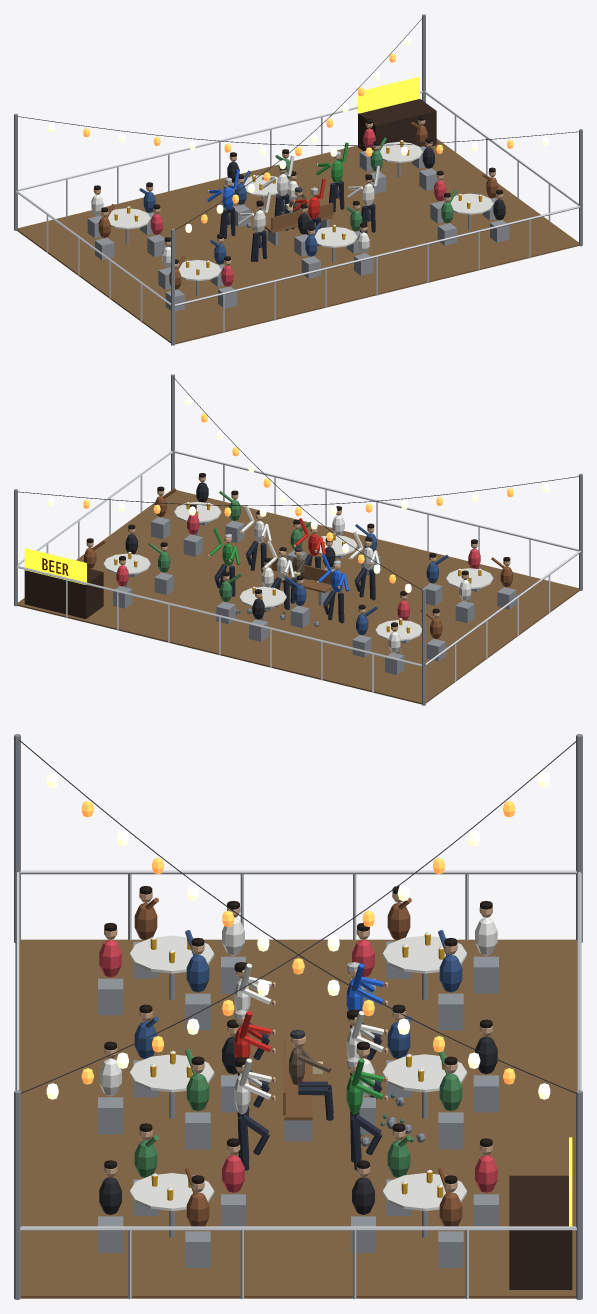
The model's file is city14.glb.
3 renders of one model, top to bottom at view 1: azimuth 30°, elevation 25°; view 2: azimuth 150°, elevation 25°; view 3: azimuth 270°, elevation 25°, orthographic. The views are drawn at different scales.
Visible parts, largest first — view 1: C14_BeerGarden, C14_TaichiA, C14_TaichiB, C14_PigeonFeeder; view 2: C14_BeerGarden, C14_TaichiA, C14_TaichiB, C14_PigeonFeeder; view 3: C14_BeerGarden, C14_TaichiA, C14_PigeonFeeder, C14_TaichiB.
Part boxes in pixels (x1,y1,x2,y2): C14_BeerGarden: (14, 14, 582, 345); C14_TaichiA: (207, 151, 376, 261); C14_TaichiB: (207, 142, 380, 261); C14_PigeonFeeder: (227, 187, 333, 245); C14_BeerGarden: (14, 374, 582, 705); C14_TaichiA: (207, 511, 376, 623); C14_TaichiB: (213, 505, 380, 621); C14_PigeonFeeder: (235, 547, 332, 626); C14_BeerGarden: (14, 734, 582, 1299); C14_TaichiA: (234, 962, 387, 1170); C14_PigeonFeeder: (283, 1029, 425, 1146); C14_TaichiB: (237, 963, 382, 1162).
Size of the model in its own units: 12.09 by 3.25 by 8.1.
